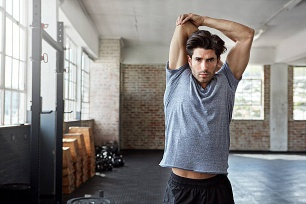male: (184, 30, 221, 84)
